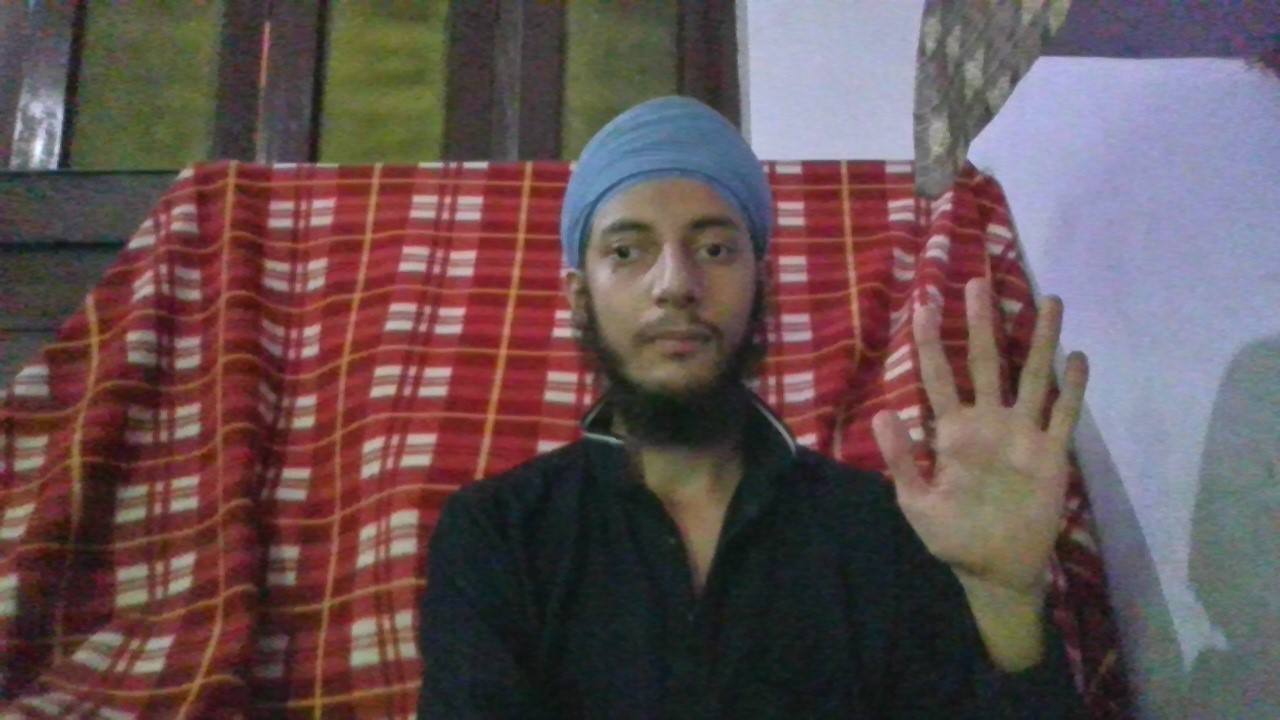Hello: (862, 272, 1095, 606)
